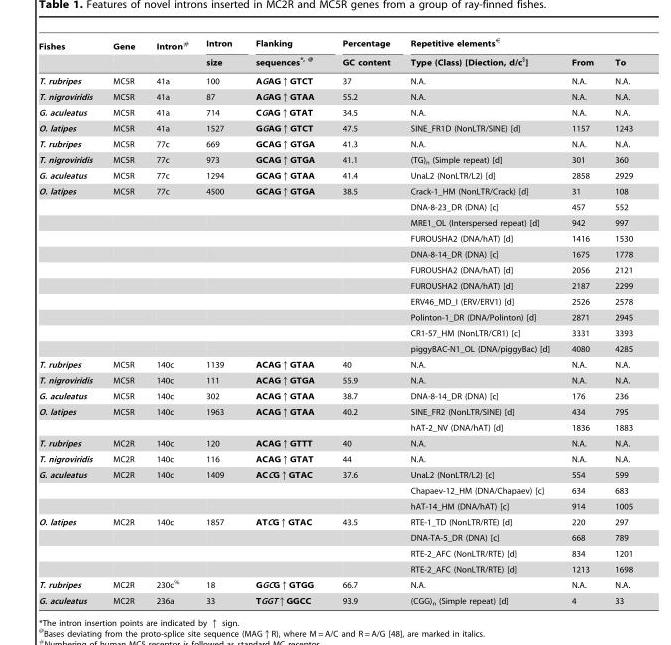table: (37, 37, 632, 605)
table column: (399, 37, 559, 605), (243, 37, 327, 605), (327, 37, 399, 605), (37, 37, 102, 605), (145, 37, 196, 605), (196, 37, 243, 605), (559, 37, 603, 605), (102, 37, 145, 605), (603, 37, 632, 605)
table column header: (37, 37, 632, 71)
table row: (37, 53, 632, 71), (37, 71, 632, 88), (37, 37, 632, 53), (37, 88, 632, 104), (37, 104, 632, 120), (37, 135, 632, 151), (37, 151, 632, 167), (37, 167, 632, 183), (37, 183, 632, 199), (37, 214, 632, 230), (37, 230, 632, 246), (37, 246, 632, 262), (37, 277, 632, 293), (37, 293, 632, 309), (37, 309, 632, 325), (37, 340, 632, 356), (37, 356, 632, 372), (37, 387, 632, 403), (37, 403, 632, 419), (37, 419, 632, 435), (37, 450, 632, 466), (37, 466, 632, 482), (37, 482, 632, 498), (37, 513, 632, 529), (37, 529, 632, 545), (37, 545, 632, 561), (37, 576, 632, 592), (37, 120, 632, 135), (37, 199, 632, 214), (37, 262, 632, 277), (37, 325, 632, 340), (37, 372, 632, 387), (37, 435, 632, 450), (37, 498, 632, 513), (37, 561, 632, 576), (37, 592, 632, 605)
table spanning cell: (37, 183, 102, 356), (37, 513, 102, 576), (399, 37, 632, 53), (37, 466, 102, 513), (243, 37, 327, 71), (327, 37, 399, 71), (37, 37, 102, 71), (37, 403, 102, 435), (145, 37, 196, 71), (196, 37, 243, 71), (102, 37, 145, 71)
